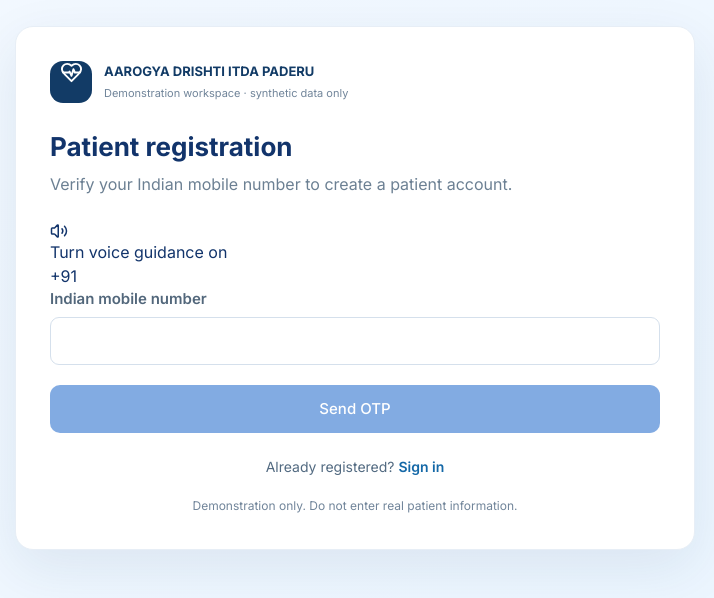
patient OTP registration › does not report a missing registration API as an invalid mobile number
Type "9876543210" into the field labelled "Indian mobile number".
click(355, 341); type("9876543210")  # box [50, 317, 660, 365]
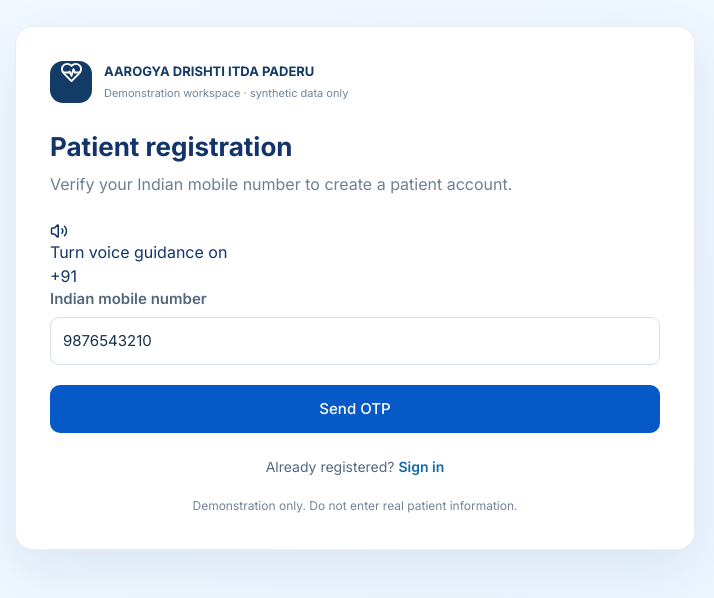
Click the button "Send OTP".
click(355, 409)  # box [50, 385, 660, 433]
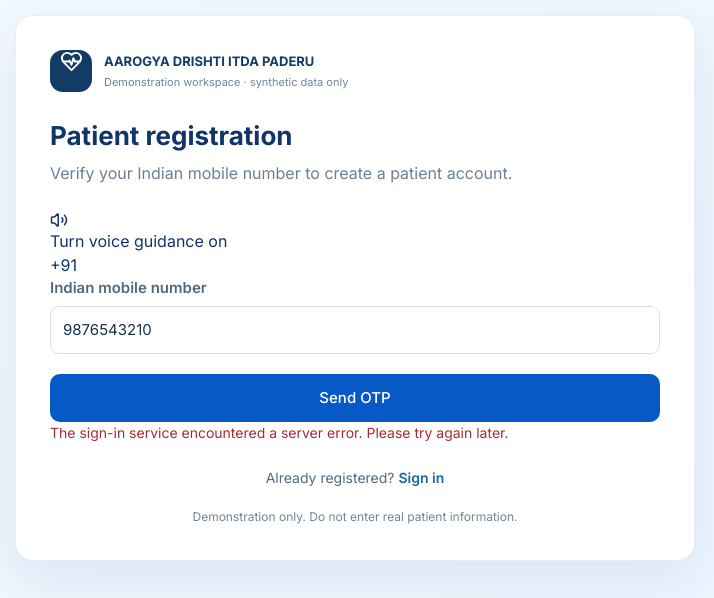
Check: the text "The sign-in service encountered a server error. Please try again later." is shown, box [50, 424, 508, 442]
